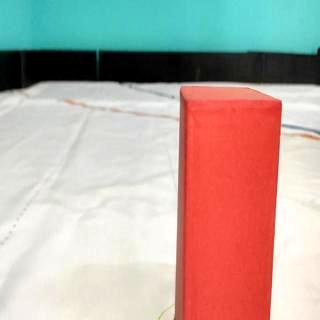redbox: (172, 85, 282, 320)
